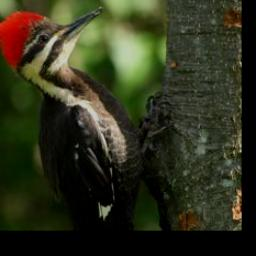Woodpecker: (0, 5, 170, 229)
